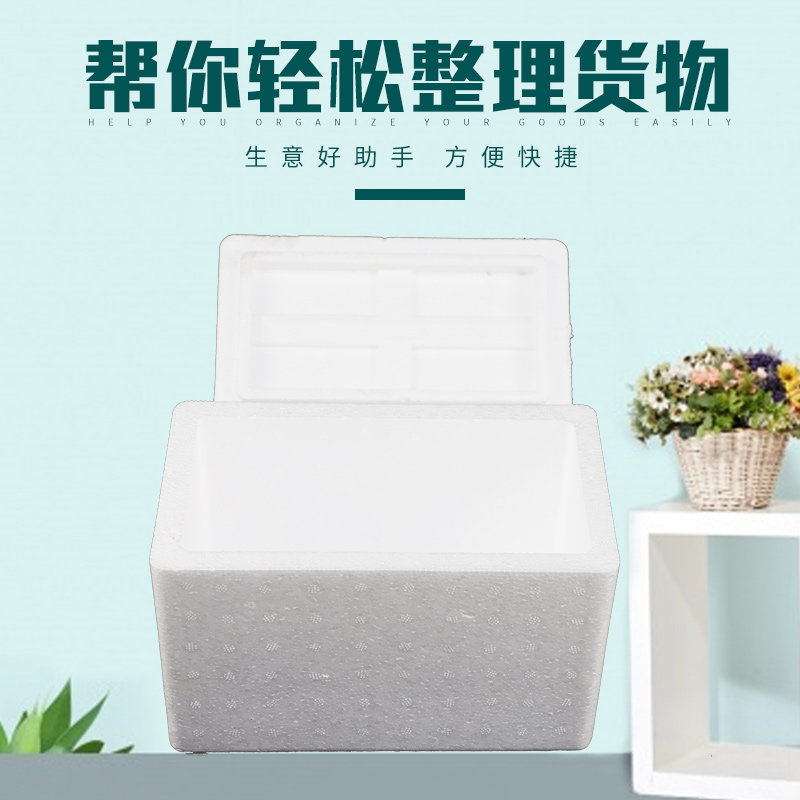泡沫箱: (150, 236, 617, 752)
